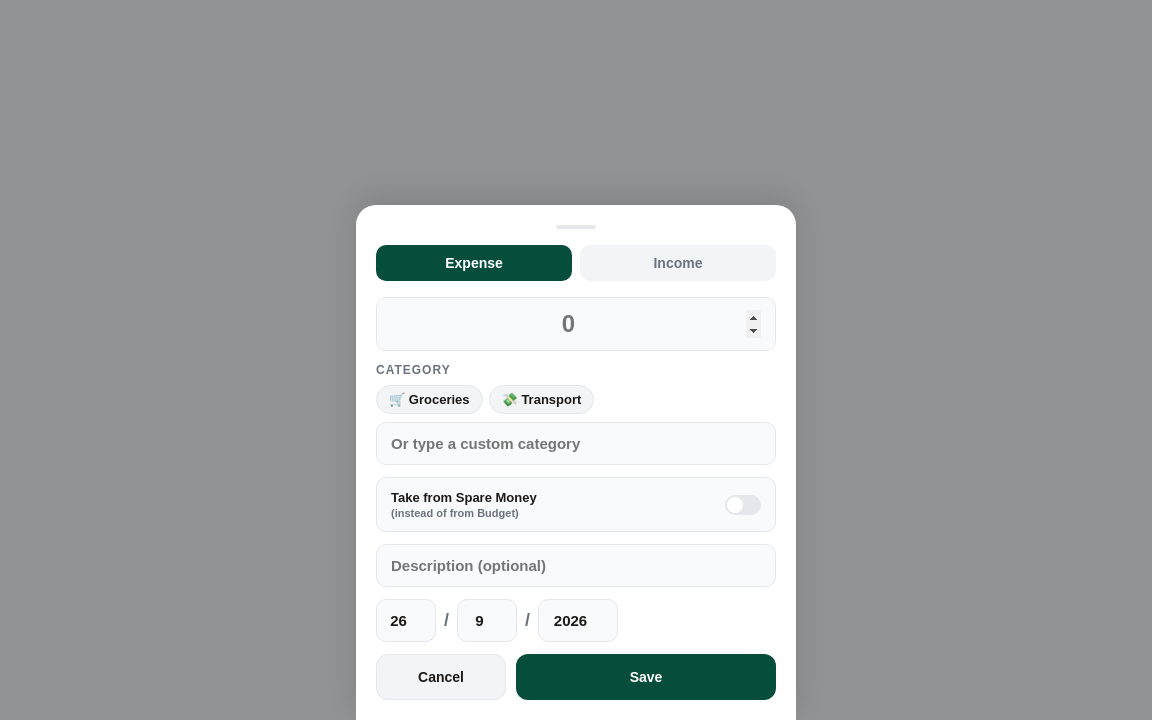
Test: AddTransactionSheet › shows error for day > 31 on submit
Type "100" into the number field with test id "add-amount-input" at (576, 324), box [376,297,776,351]
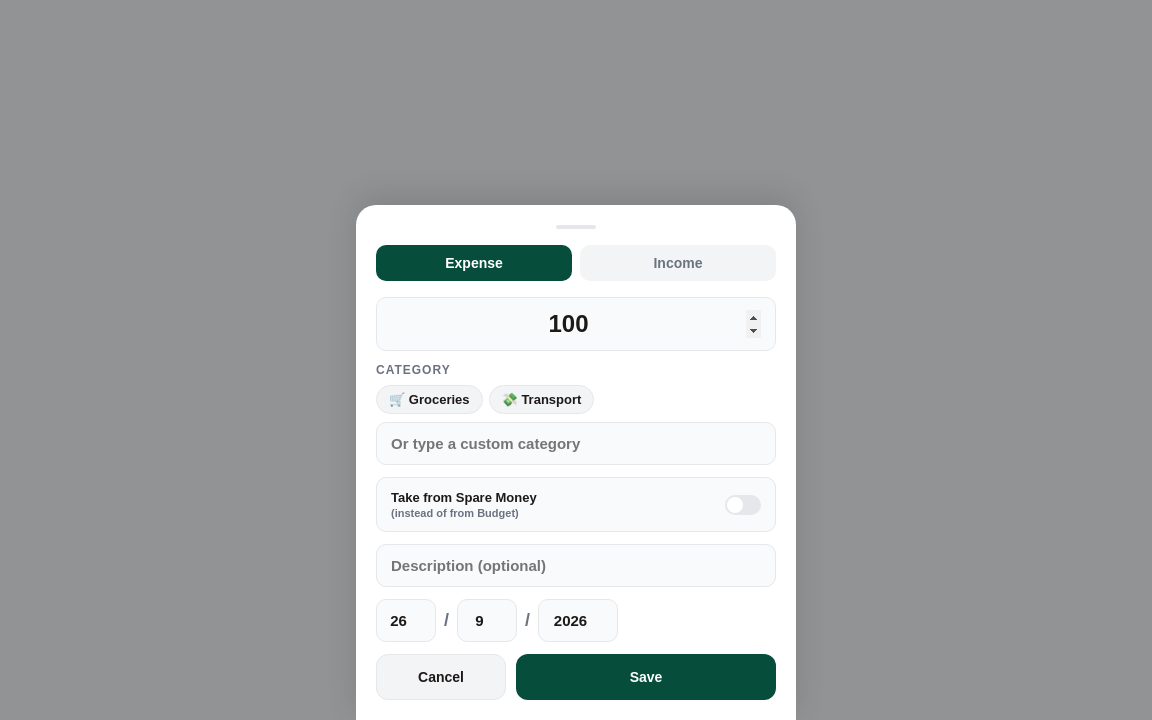
Replace the text in the number field with test id "add-date-input" with "50" at (406, 620), box [376,599,436,642]
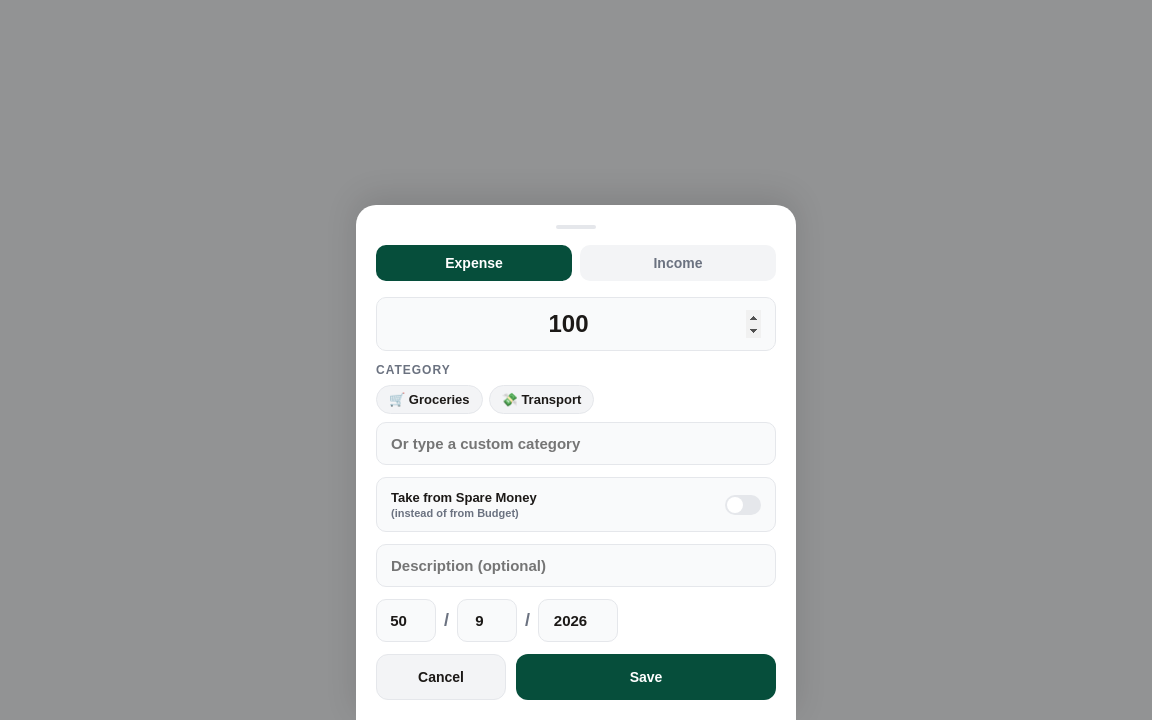
Click the button "Save" at (646, 677), box [516,654,776,700]
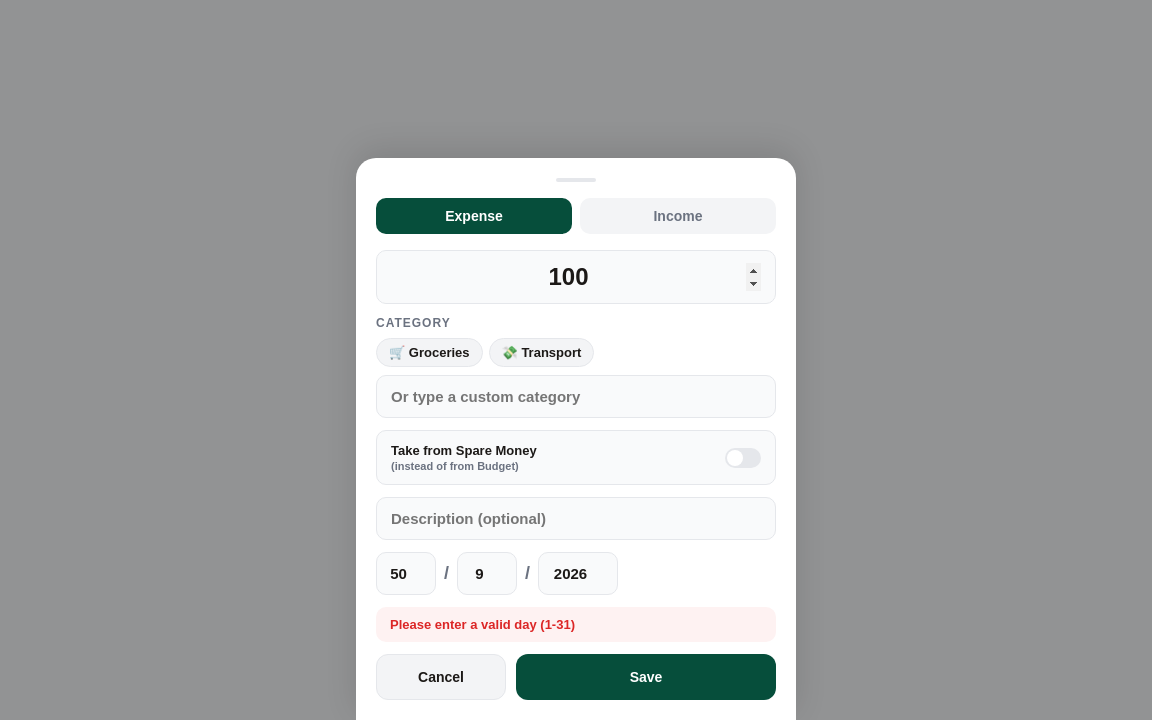
Expected: the text "Please enter a valid day (1-31)" is shown, [390,617,575,632]
